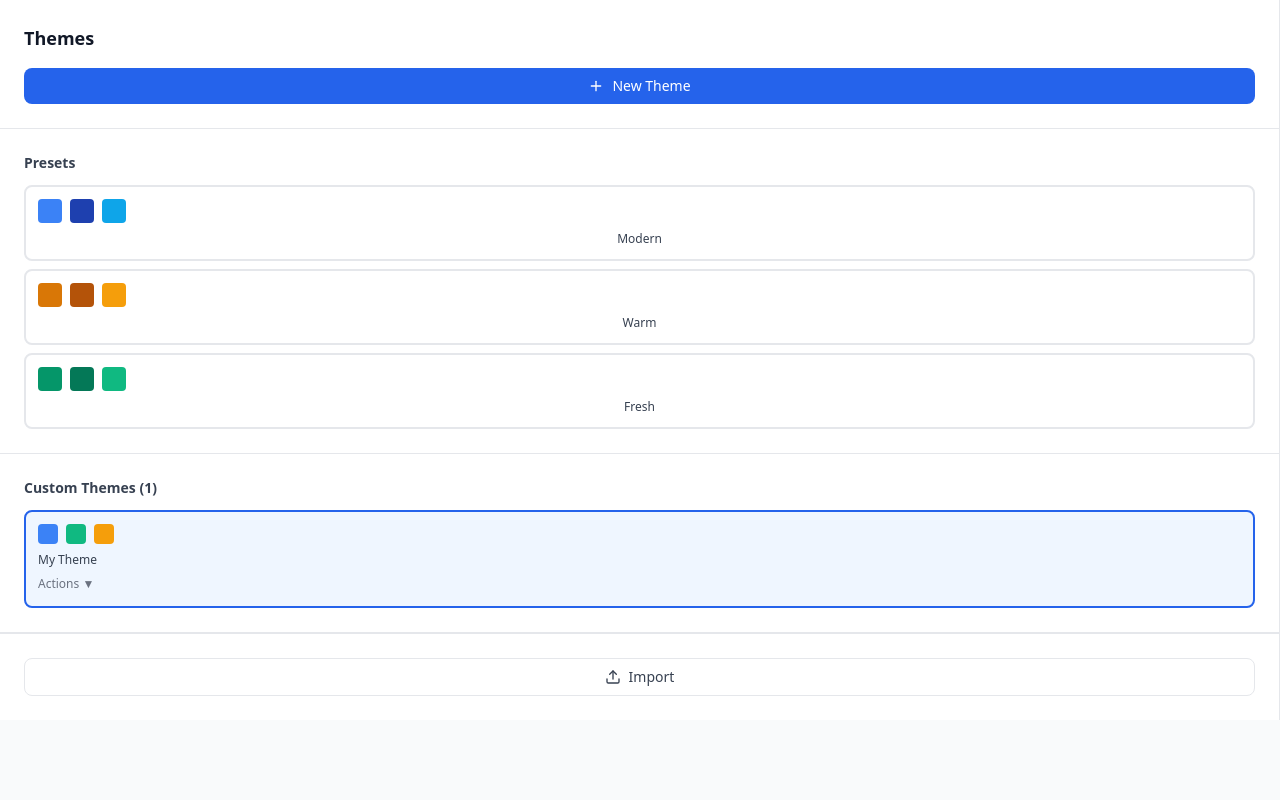
ThemeSelector › Theme Actions › should close actions menu on second click
Click the button "Actions ▼" at (66, 584), box [38,576,94,592]
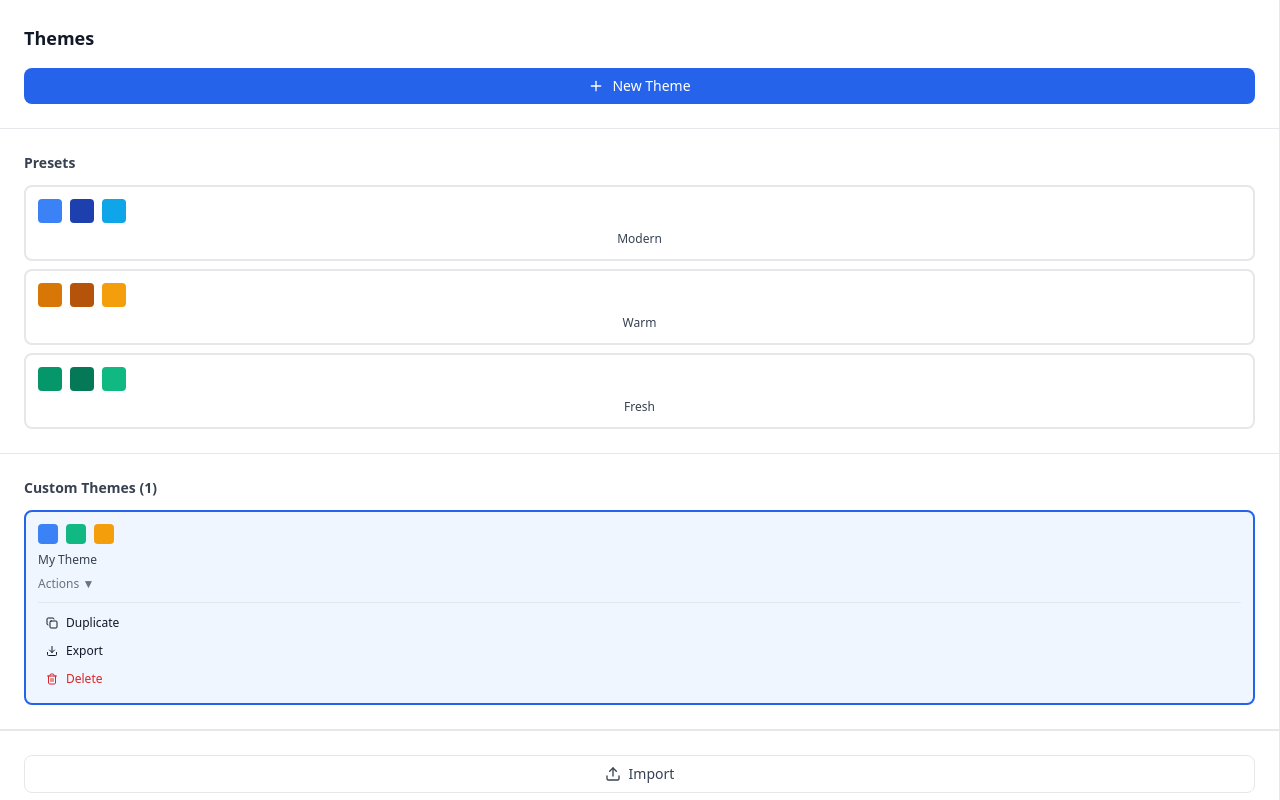
Result: the button "Duplicate" is shown at [38,611,1241,635]
Click the button "Actions ▼" at (66, 584), box [38,576,94,592]
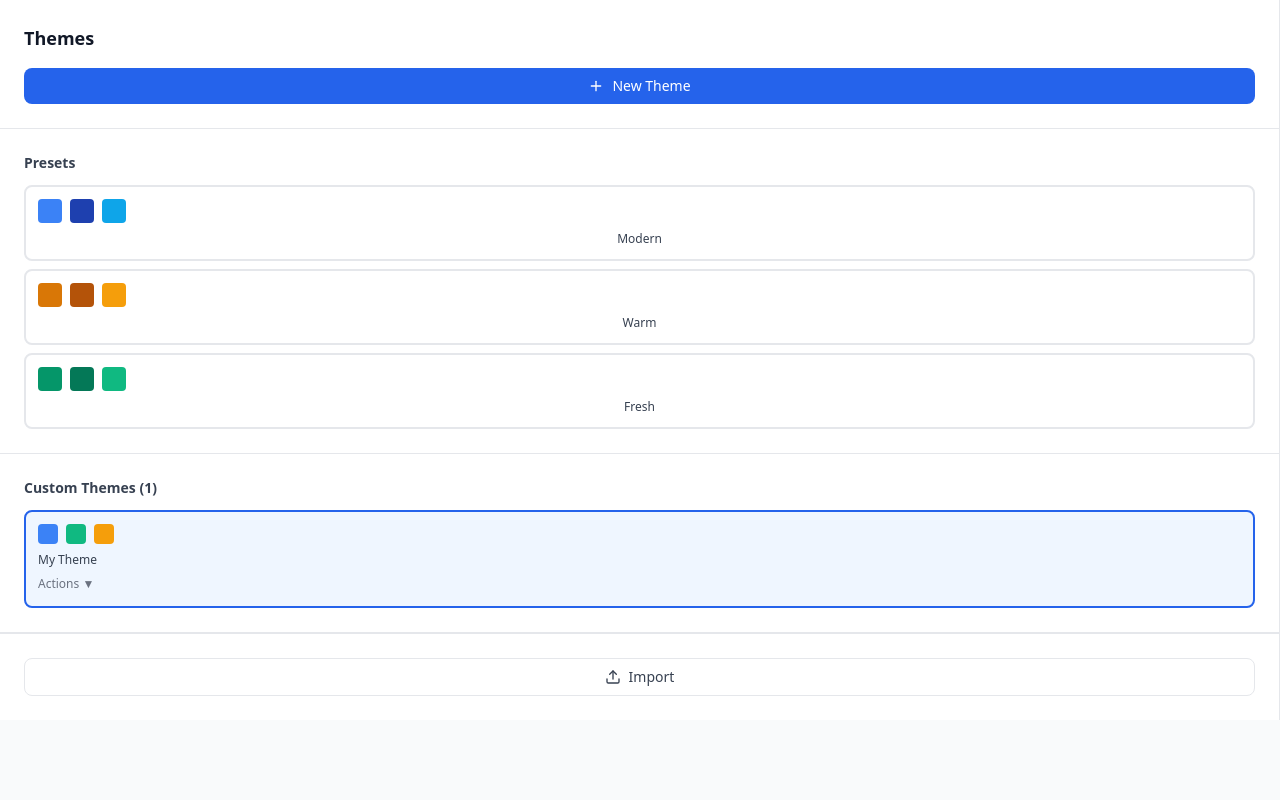
Result: the button "Duplicate" is gone
